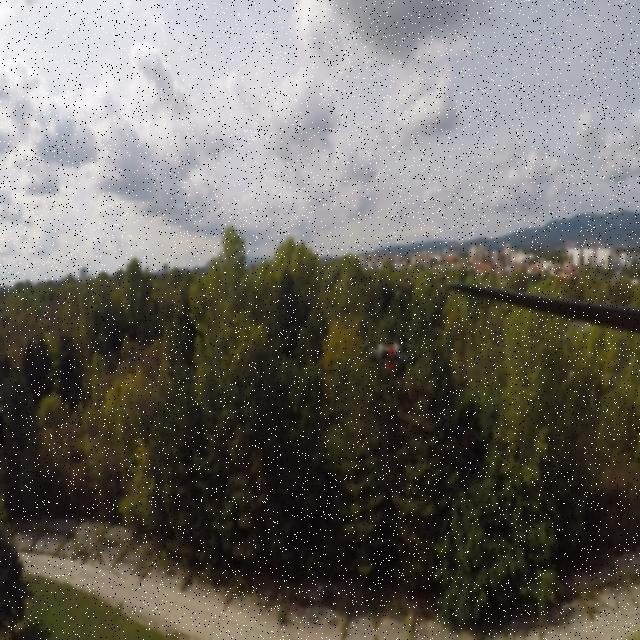UAV: (364, 329, 419, 398)
